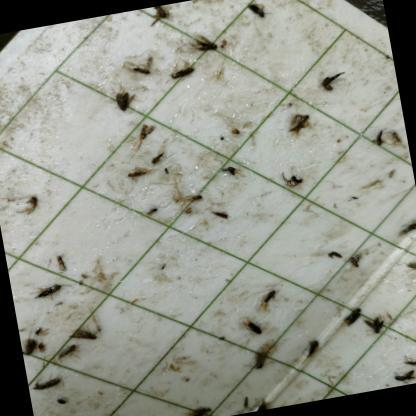prays_oleae: (242, 0, 277, 37), (124, 48, 158, 86), (337, 296, 368, 334), (190, 27, 221, 64), (67, 317, 99, 352), (165, 60, 197, 92), (280, 106, 312, 138), (30, 278, 66, 306), (362, 306, 392, 336), (53, 338, 81, 370), (30, 372, 66, 396), (206, 199, 234, 229), (238, 313, 264, 345), (216, 155, 242, 187), (110, 86, 136, 118), (249, 344, 272, 377), (257, 278, 280, 310), (303, 337, 326, 368), (132, 117, 158, 144), (370, 126, 391, 159), (18, 330, 40, 361), (144, 5, 170, 31), (184, 396, 215, 416), (123, 164, 150, 186), (390, 365, 416, 386), (148, 148, 168, 174), (142, 200, 162, 226), (344, 250, 362, 275), (186, 186, 205, 209), (402, 253, 416, 284), (252, 398, 272, 411), (402, 352, 416, 370)
